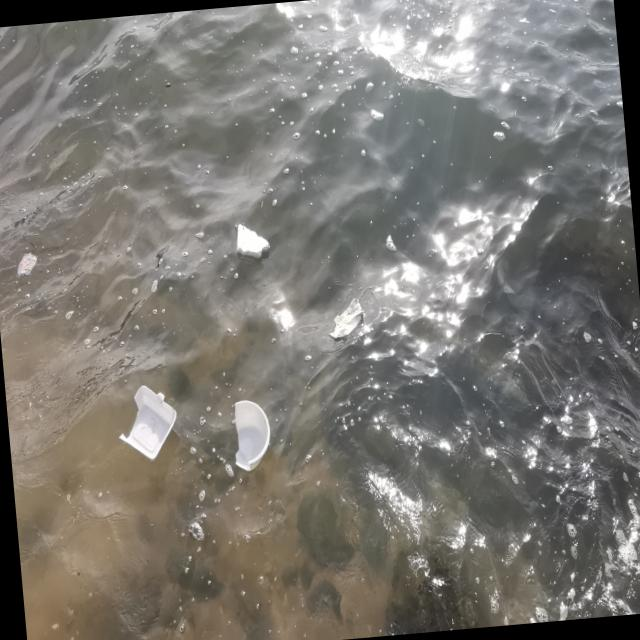foam: (116, 380, 177, 461), (226, 400, 276, 475), (327, 296, 364, 339), (234, 220, 272, 260)
unknow: (14, 248, 38, 279)
